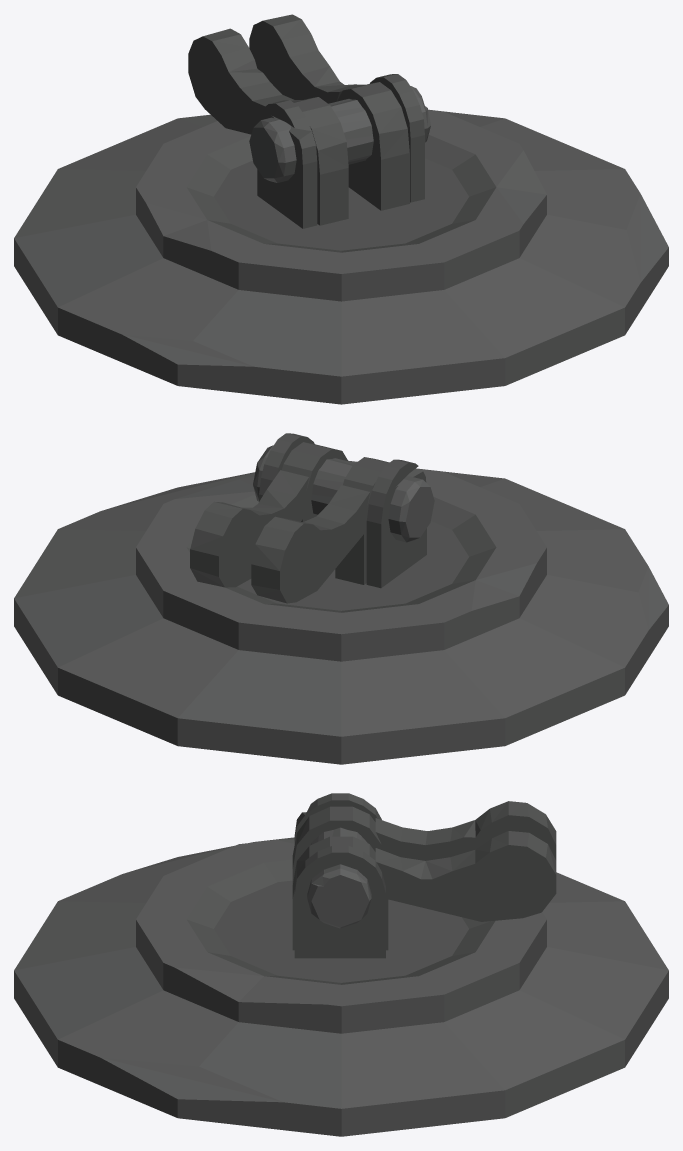
The model's file is Board_Stand_002.fbx.
3 renders of one model, top to bottom at view 1: azimuth 30°, elevation 25°; view 2: azimuth 150°, elevation 25°; view 3: azimuth 270°, elevation 25°, orthographic.
Visible parts, largest first — view 1: Board_Stand_002; view 2: Board_Stand_002; view 3: Board_Stand_002.
Part boxes in pixels (x1,y1,x2,y2): Board_Stand_002: [14, 14, 668, 404]; Board_Stand_002: [14, 433, 668, 764]; Board_Stand_002: [14, 793, 668, 1136].
Size of the model in its own units: 0.6165 by 0.1817 by 0.6165.
